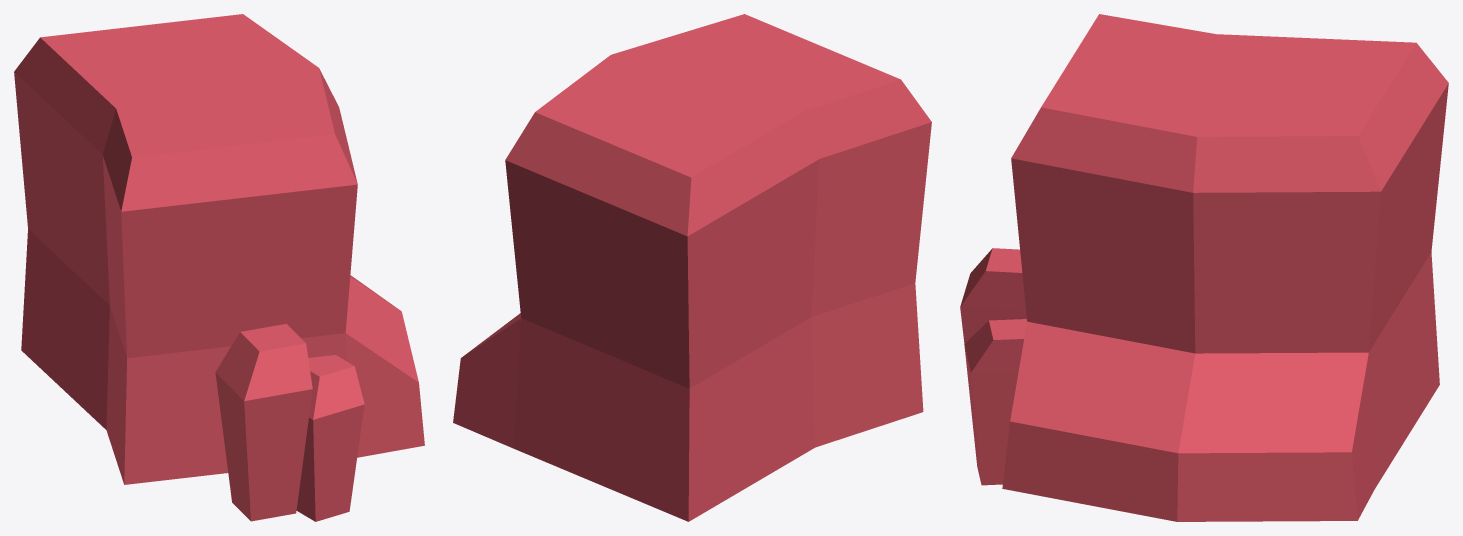
File: RockType6 03.fbx
3 renders of one model, left to right at view 1: azimuth 30°, elevation 25°; view 2: azimuth 150°, elevation 25°; view 3: azimuth 270°, elevation 25°, orthographic. The views are drawn at different scales.
Visible parts, largest first — view 1: Rock Type6 03 mesh; view 2: Rock Type6 03 mesh; view 3: Rock Type6 03 mesh.
Boxes of the visible parts, bbox=[...] form: Rock Type6 03 mesh: bbox=[14, 14, 424, 521]; Rock Type6 03 mesh: bbox=[453, 14, 931, 521]; Rock Type6 03 mesh: bbox=[960, 14, 1448, 521].
Size of the model in its own units: 111 by 114 by 131.
